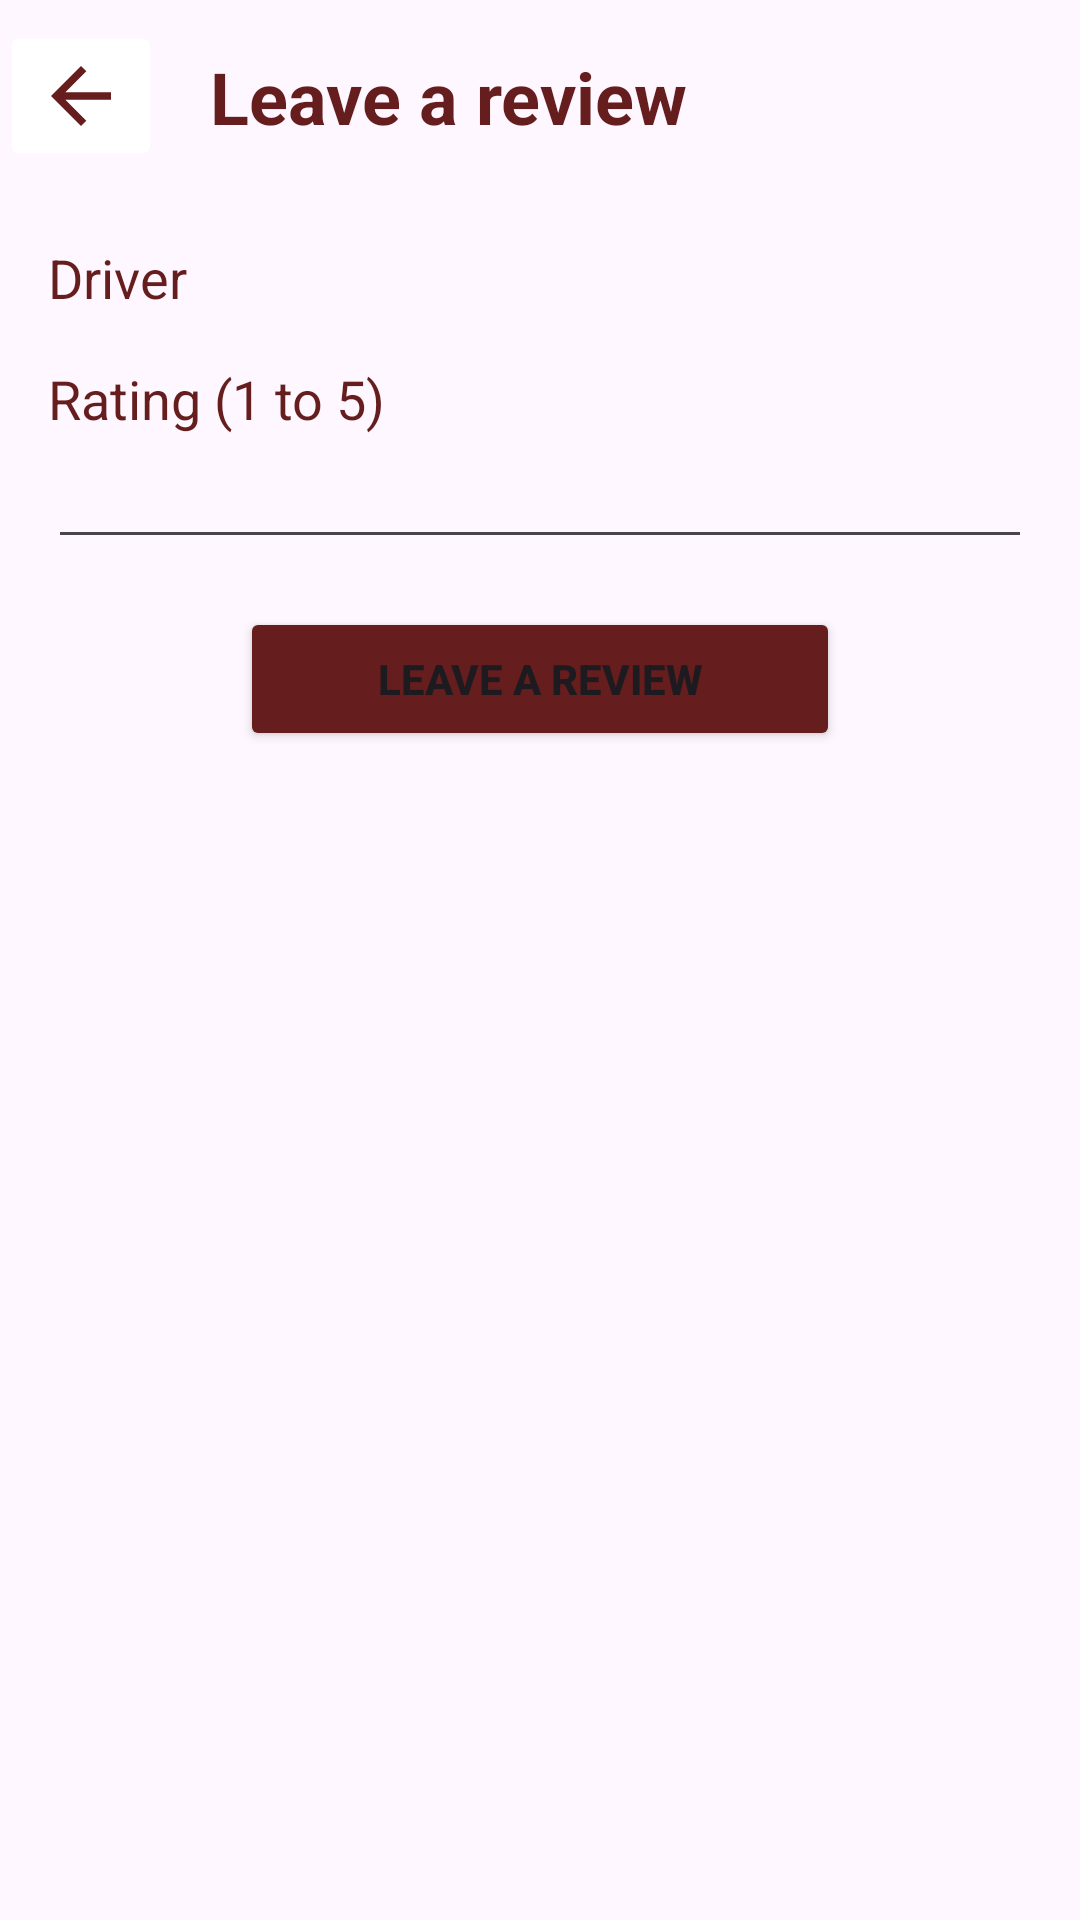

Icon click points for this 1080 x 1920 phone screenshot, format point (x, y):
Back: point (81, 96)
